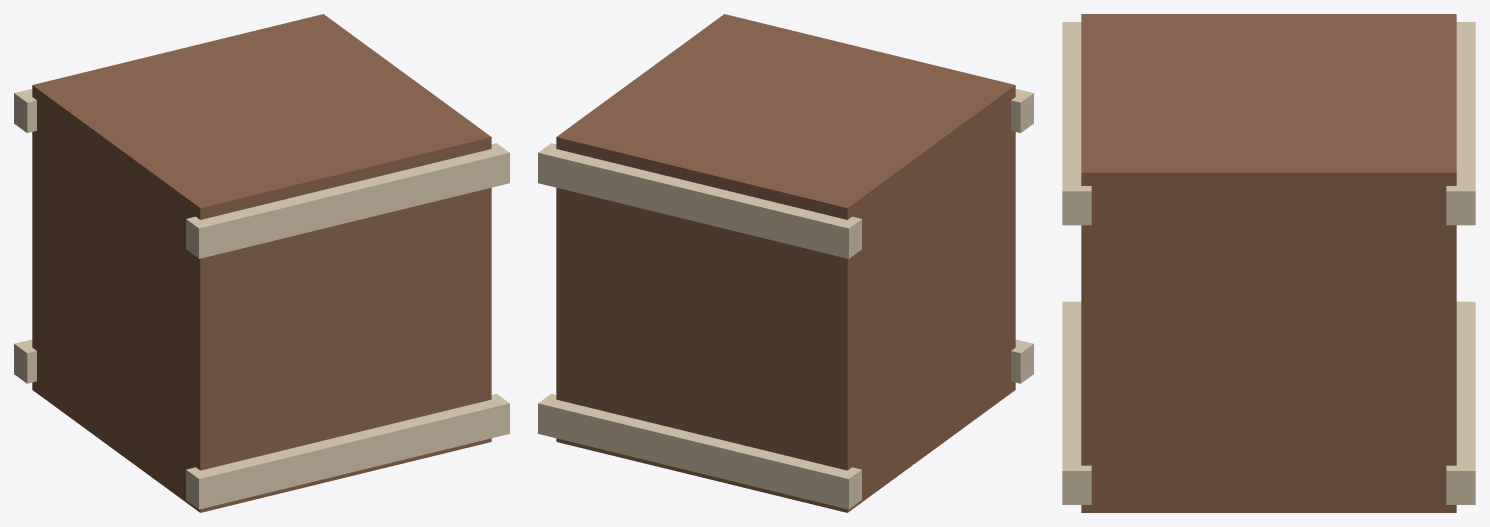
File: Crate.glb
3 views of the same model, side by side, from view 1: azimuth 30°, elevation 25°; view 2: azimuth 150°, elevation 25°; view 3: azimuth 270°, elevation 25° (orthographic). The views are drawn at different scales.
Visible parts, largest first — view 1: Wood.001, Path.004, Path.002, Path.003, Path.005; view 2: Wood.001, Path.005, Path.003, Path.002, Path.004; view 3: Wood.001, Path.004, Path.005, Path.002, Path.003.
Part boxes in pixels (<box>): Wood.001: <box>32,14,491,512</box>; Path.004: <box>186,143,509,258</box>; Path.002: <box>186,394,509,509</box>; Path.003: <box>14,339,36,383</box>; Path.005: <box>14,89,36,132</box>; Wood.001: <box>556,14,1015,512</box>; Path.005: <box>538,143,861,258</box>; Path.003: <box>538,394,861,509</box>; Path.002: <box>1011,339,1033,383</box>; Path.004: <box>1011,89,1033,132</box>; Wood.001: <box>1081,14,1456,512</box>; Path.004: <box>1062,22,1091,225</box>; Path.005: <box>1446,22,1475,225</box>; Path.002: <box>1062,301,1091,504</box>; Path.003: <box>1446,301,1475,504</box>.
Bounding box in the file's own units: 0.96 × 0.9 × 0.99.
